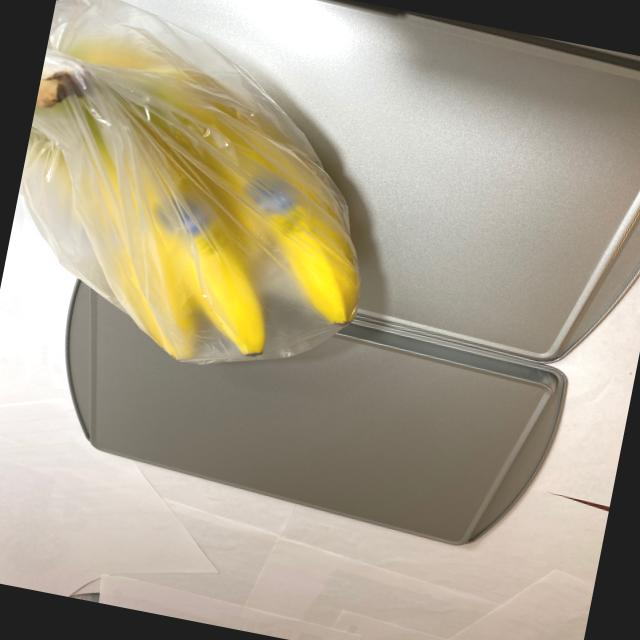banana: (0, 17, 409, 398)
